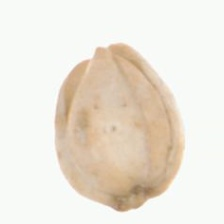L1: (69, 40, 136, 66), (111, 186, 169, 212)
L2: (54, 42, 184, 212)
